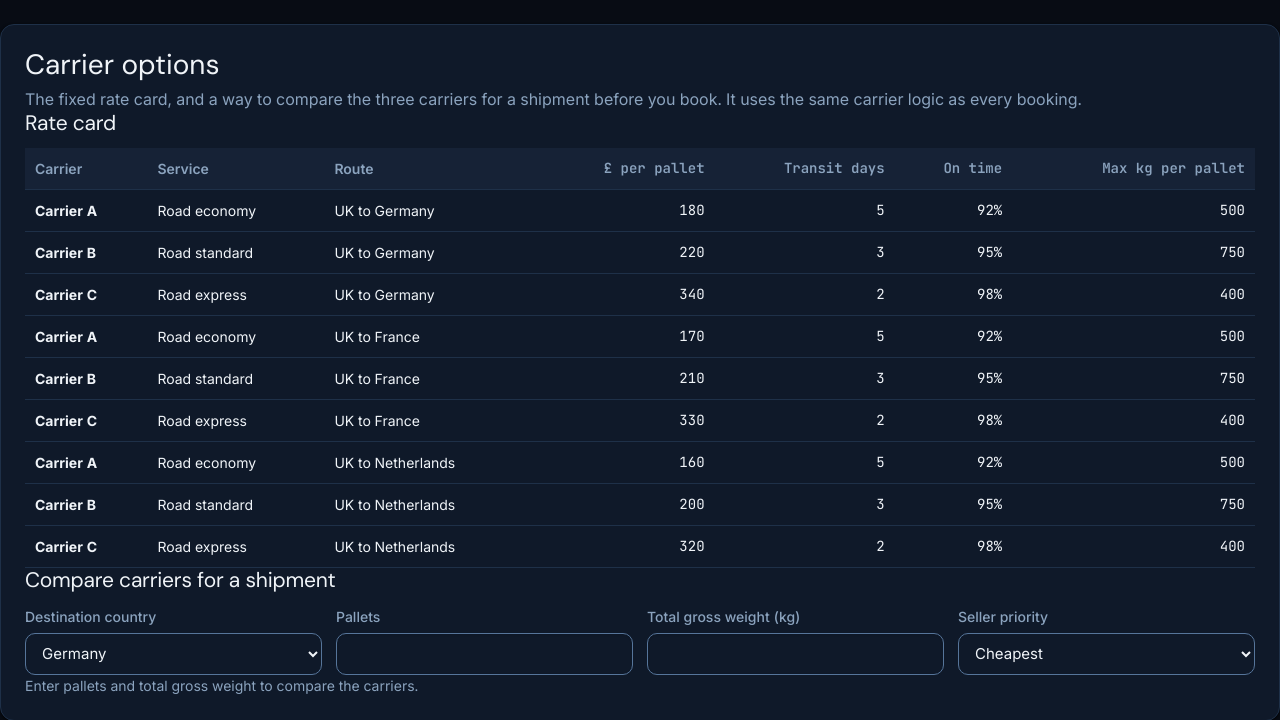
Test case: compare carriers › Germany, 4 pallets, 1,500 kg, Balanced: all fit, scores B 0.65, C 0.60, A 0.40, B is recommended
Step 1. Select "Germany" in the dropdown labelled "Destination country" → (174, 654), box [25, 633, 322, 675]
Step 2. Type "4" into the field labelled "Pallets" → (484, 654), box [336, 633, 633, 675]
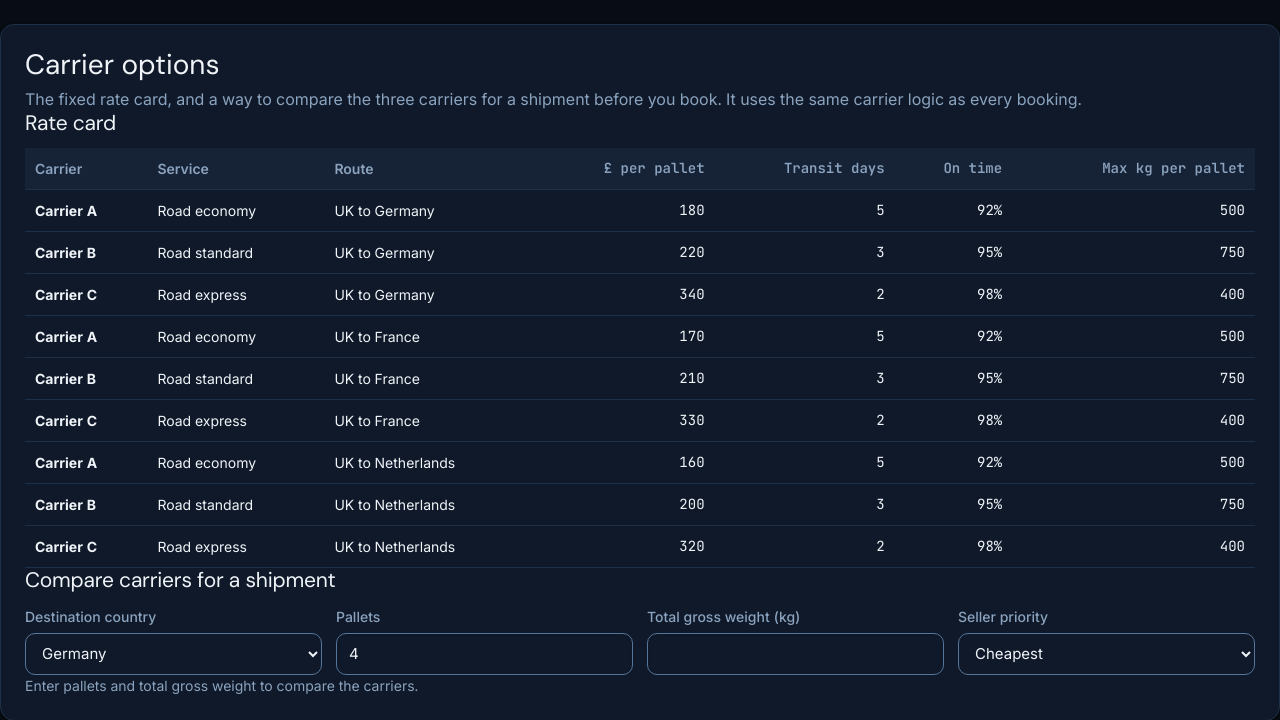
Step 3. Type "1500" into the field labelled "Total gross weight (kg)" → (796, 654), box [647, 633, 944, 675]
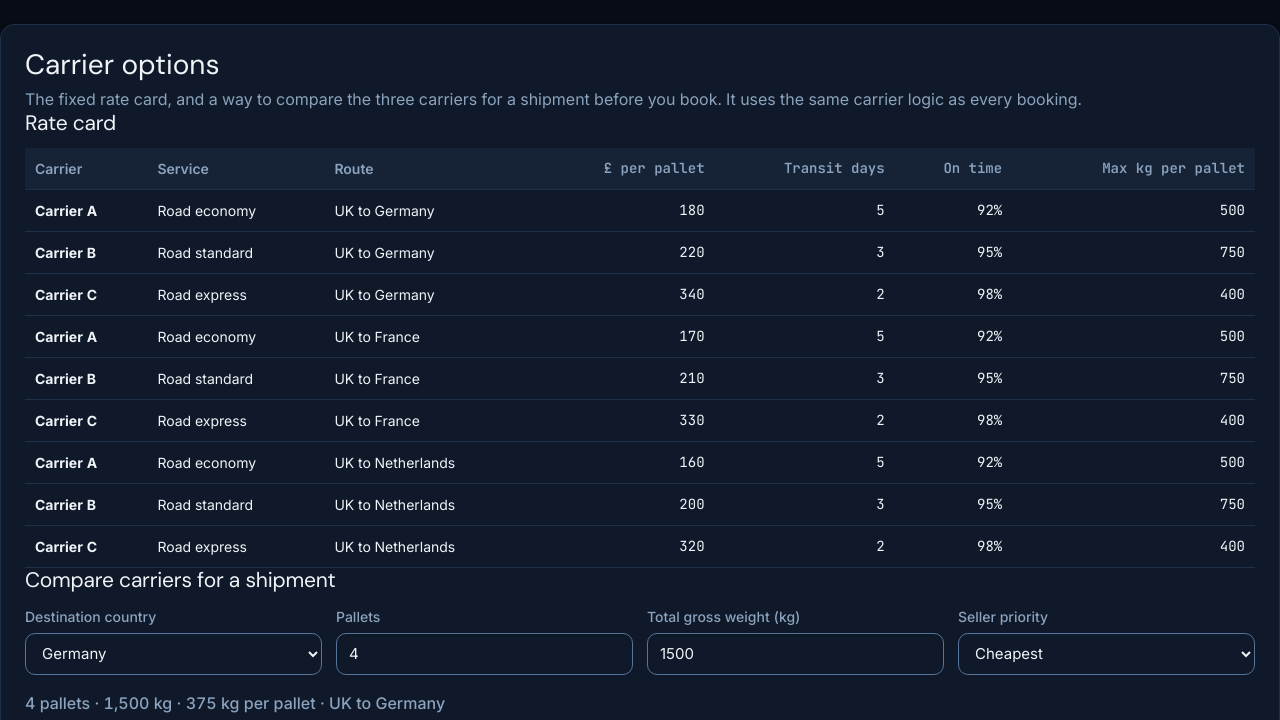
Step 4. Select "Balanced" in the dropdown labelled "Seller priority" → (1106, 654), box [958, 633, 1255, 675]
(page scrolled)
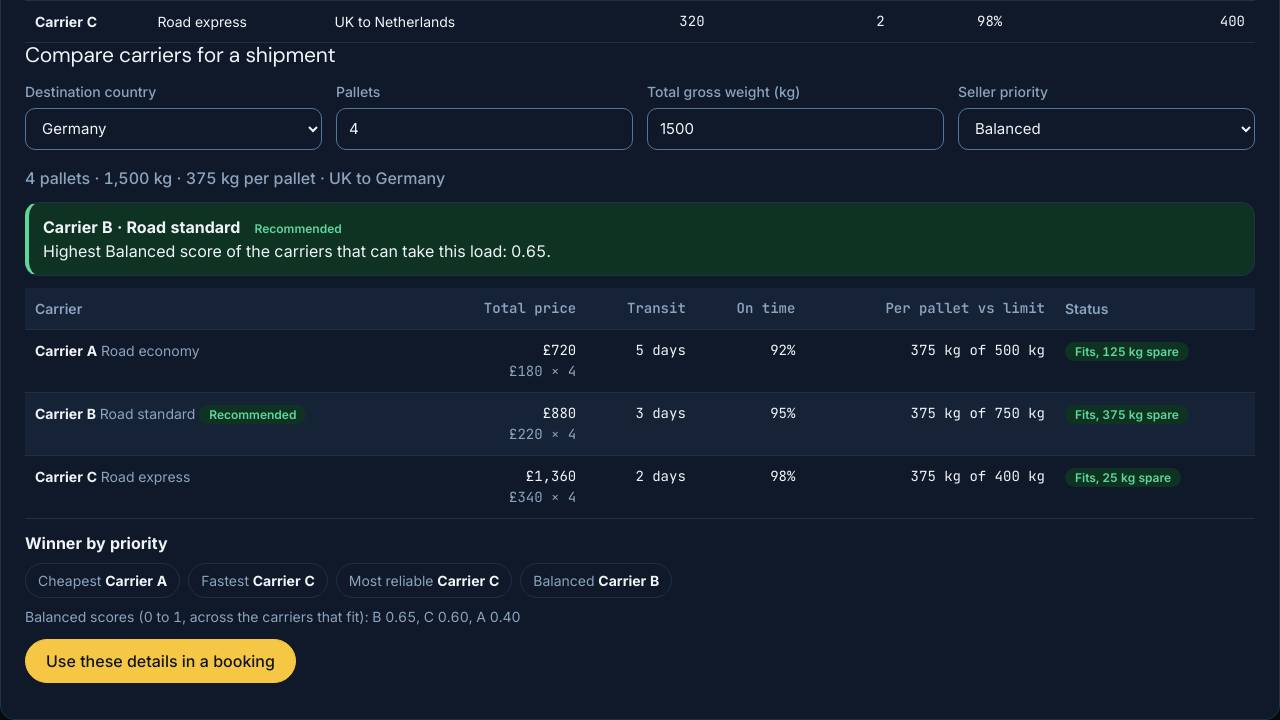
Expected: the text "Balanced scores" shows "B 0.65, C 0.60, A 0.40", [25, 608, 521, 625]
Expected: the text "Carrier B" shows "Recommended", [209, 407, 296, 422]
